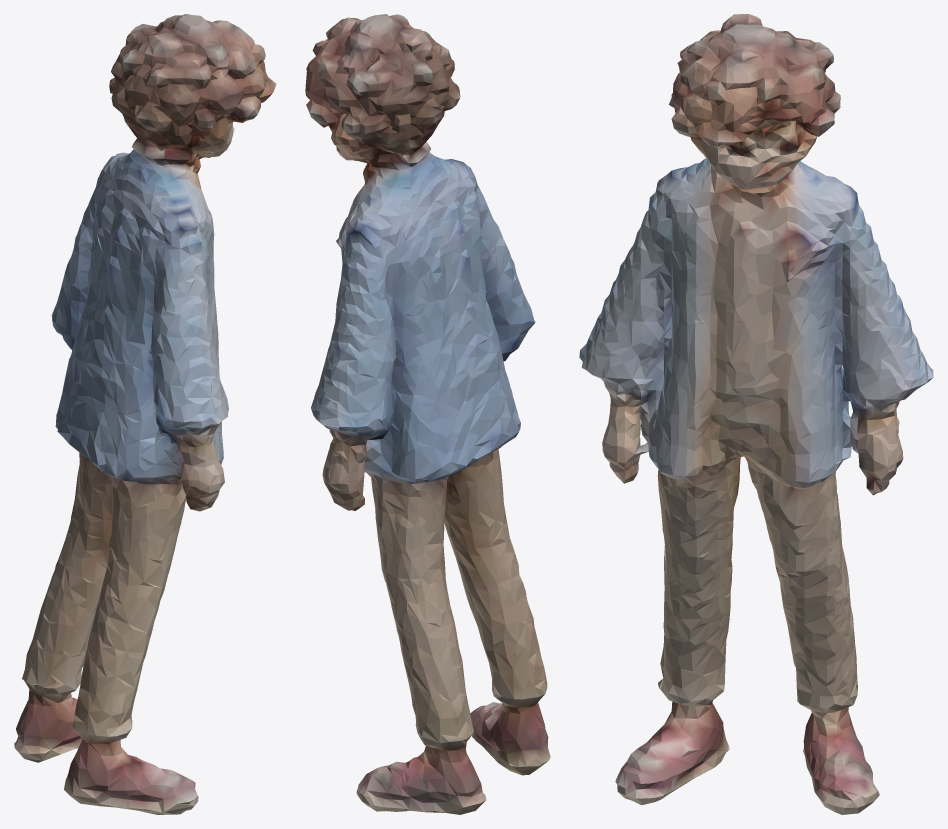
The model's file is npc-sakura-visitor.glb.
3 views of the same model, side by side, from view 1: azimuth 30°, elevation 25°; view 2: azimuth 150°, elevation 25°; view 3: azimuth 270°, elevation 25° (orthographic). The views are drawn at different scales.
Visible parts, largest first — view 1: world; view 2: world; view 3: world.
Part boxes in pixels (x1,y1,x2,y2): world: (14, 14, 276, 814); world: (305, 14, 550, 814); world: (579, 14, 933, 814).
Size of the model in its own units: 0.2974 by 0.9662 by 0.3834.
